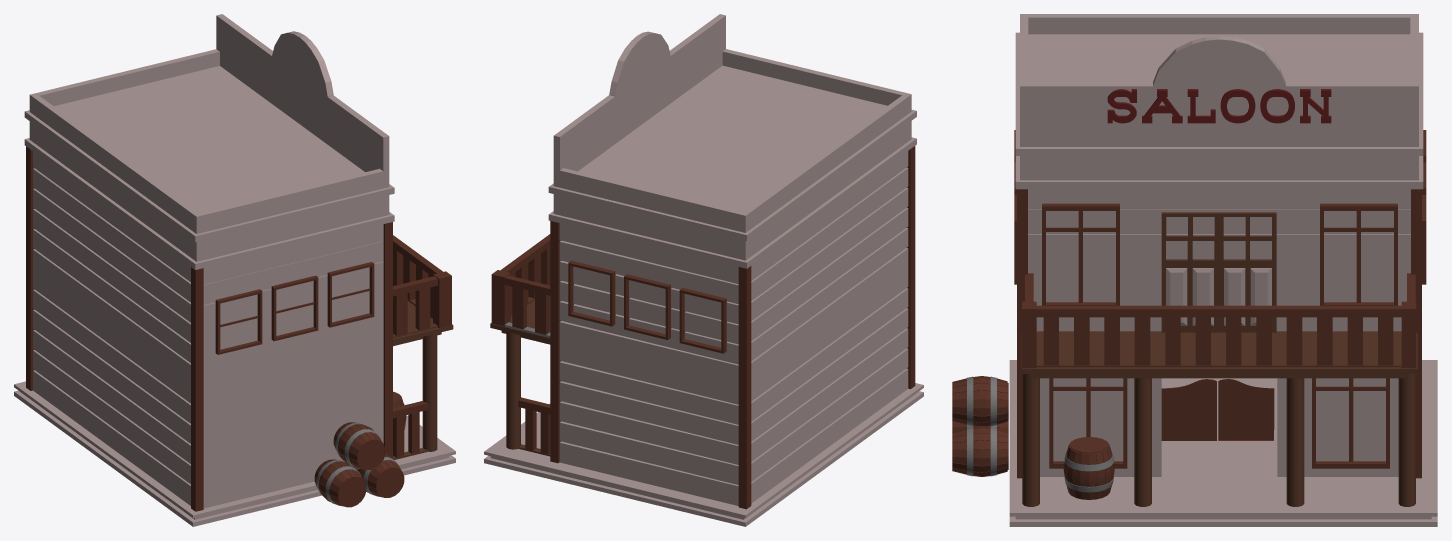
The model's file is saloon.fbx.
The picture shows the model from 3 angles, left to right: view 1: azimuth 30°, elevation 25°; view 2: azimuth 150°, elevation 25°; view 3: azimuth 270°, elevation 25°; orthographic projection. The views are drawn at different scales.
Visible parts, largest first — view 1: Saloon; view 2: Saloon; view 3: Saloon.
Part boxes in pixels (bbox=[...]): Saloon: bbox=[14, 14, 455, 526]; Saloon: bbox=[484, 14, 923, 526]; Saloon: bbox=[952, 14, 1437, 526].
Size of the model in its own units: 825 by 1124 by 1095.
